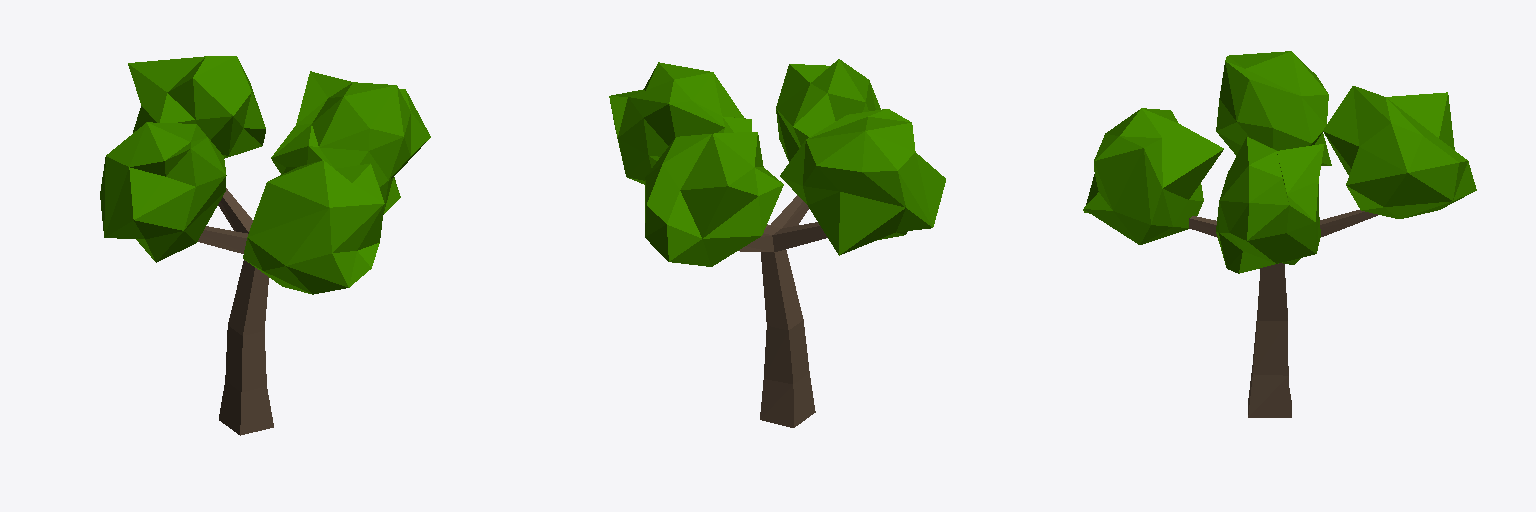
File: Cartoon_low_poly_tree_2.obj
The picture shows the model from 3 angles: view 1: azimuth 30°, elevation 25°; view 2: azimuth 150°, elevation 25°; view 3: azimuth 270°, elevation 25°; orthographic projection.
Parts seen in each view (by area): view 1: Tree_2 Mesh; view 2: Tree_2 Mesh; view 3: Tree_2 Mesh.
Boxes of the visible parts, box(x1,y1,x2,y2) form: Tree_2 Mesh: box(100, 56, 430, 435); Tree_2 Mesh: box(609, 59, 945, 427); Tree_2 Mesh: box(1083, 51, 1476, 417).
Size of the model in its own units: 33.51 by 32.38 by 36.04.